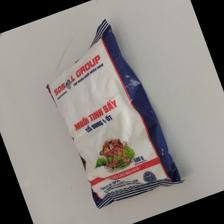Salt: (41, 19, 183, 212)
